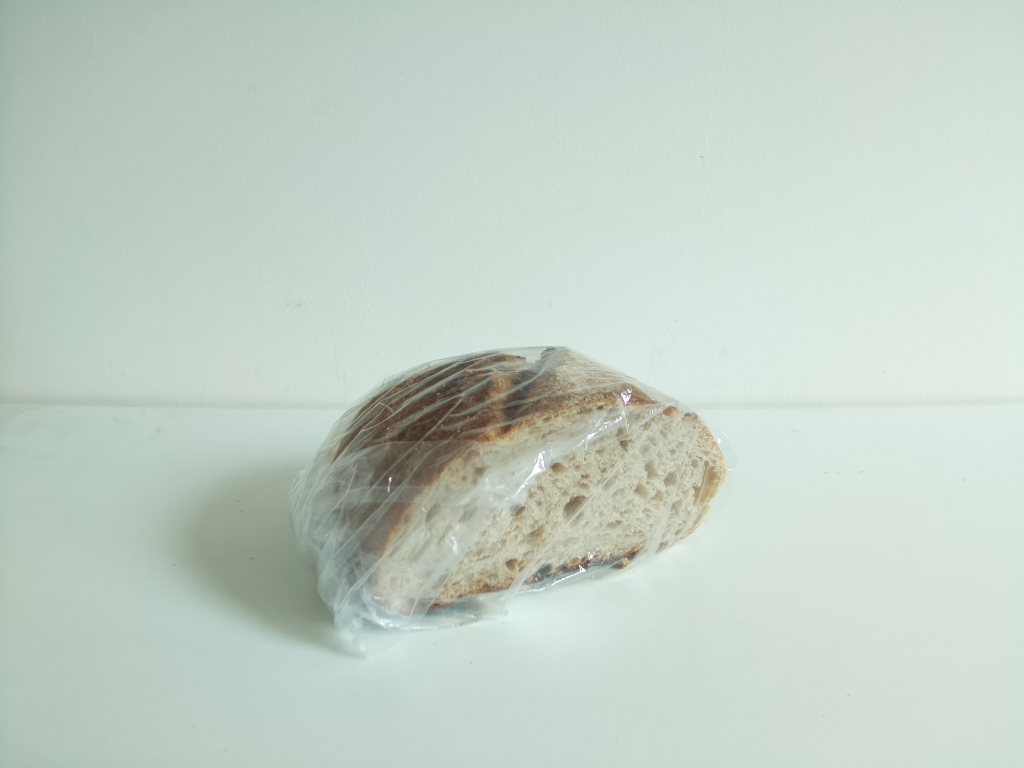bread: (331, 342, 726, 631)
